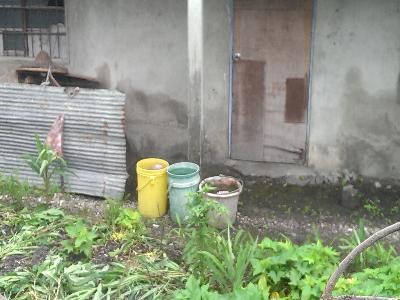bucket: (199, 174, 244, 229), (167, 161, 201, 229), (135, 158, 168, 219)
